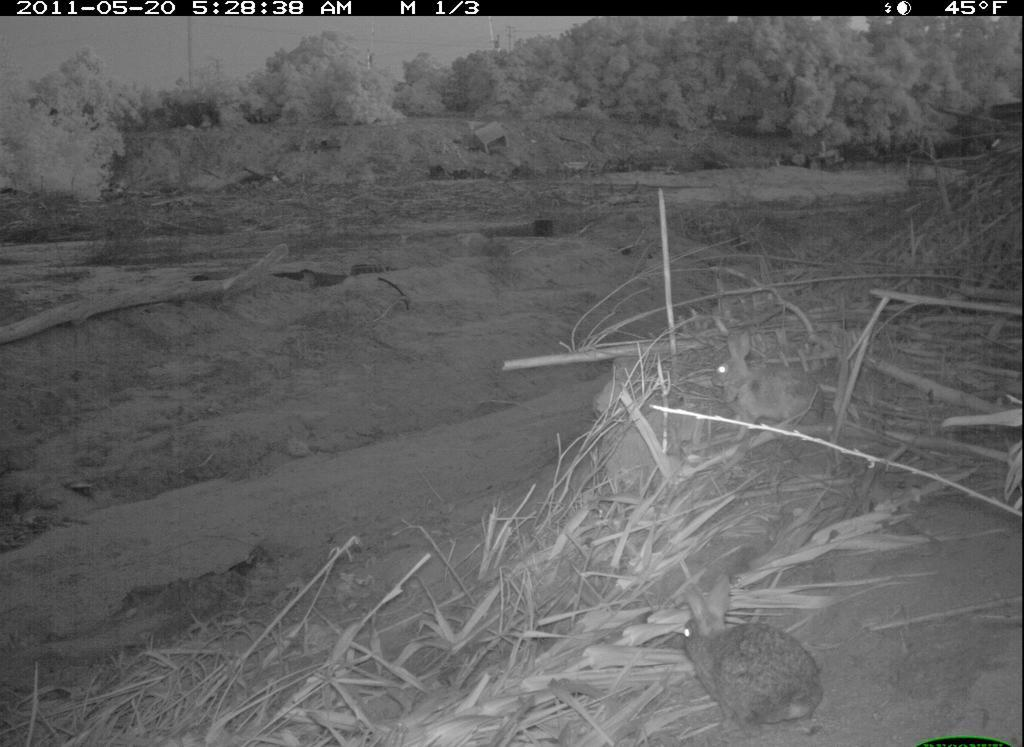rabbit: (662, 561, 834, 740), (694, 322, 854, 446)
